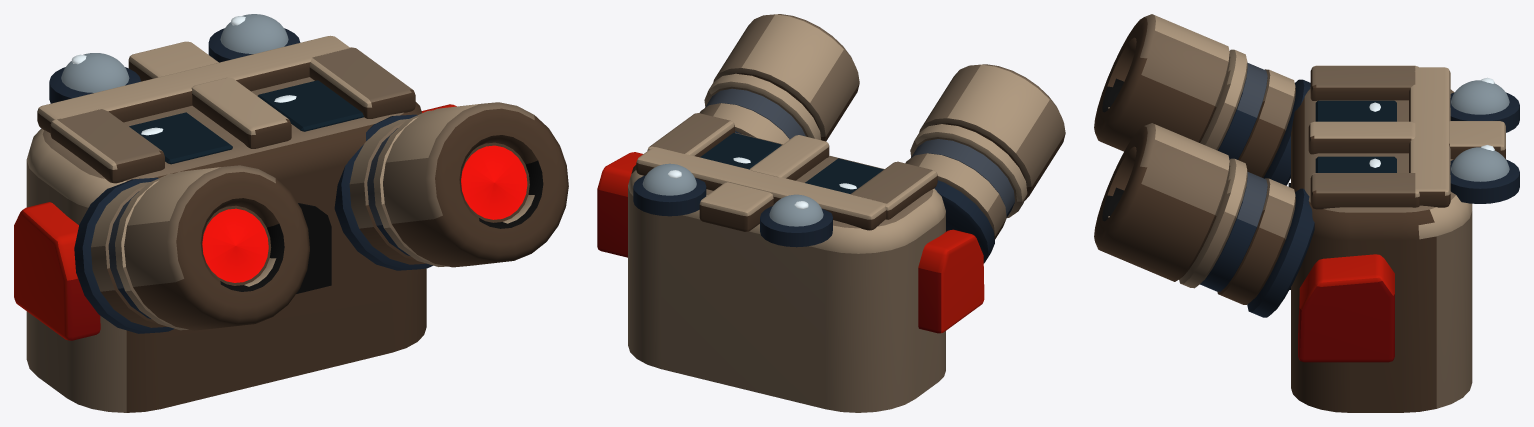
File: tan_launcher.glb
The picture shows the model from 3 angles, left to right: view 1: azimuth 30°, elevation 25°; view 2: azimuth 150°, elevation 25°; view 3: azimuth 270°, elevation 25°; orthographic projection. The views are drawn at different scales.
Visible parts, largest first — view 1: tan_launcher; view 2: tan_launcher; view 3: tan_launcher.
Boxes of the visible parts, x1=… form: tan_launcher: x1=14, y1=14, x2=568, y2=412; tan_launcher: x1=597, y1=14, x2=1065, y2=412; tan_launcher: x1=1094, y1=14, x2=1519, y2=412.
Size of the model in its own units: 21.9 by 14.58 by 21.48.
